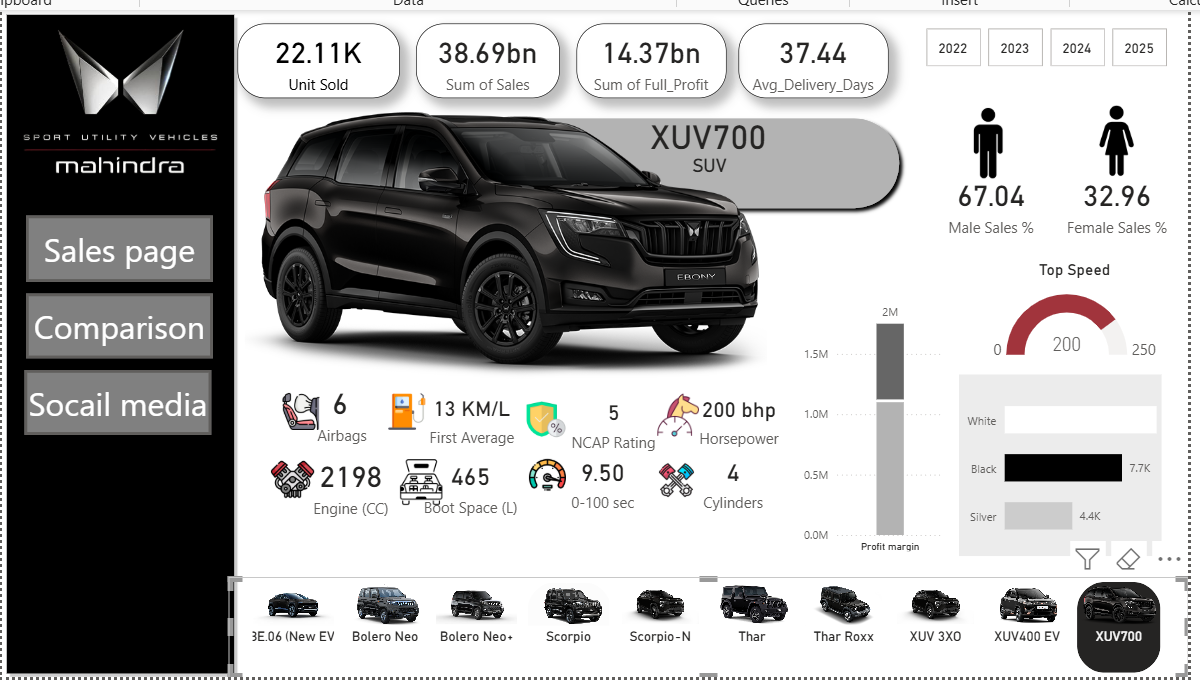

This screenshot's page, from the dashboard's own definition file:
{"tool":"powerbi","page":{"name":" Cars Specification","canvas":[1280,720],"ordinal":1},"visuals":[{"type":"shape","box":[0,0,255.7,721.4],"z":0},{"type":"shape","box":[484.2,108.8,493,114],"z":1000},{"type":"advancedSlicerVisual","fields":{"Values":["Mahindra_Product with img.Car_Model"]},"box":[245,611.7,1035,108.3],"z":2000},{"type":"card","fields":{"Values":["Min(Mahindra_Product with img.Car_Model)"]},"box":[620.2,100.4,283.4,66.4],"z":3000},{"type":"card","fields":{"Values":["Min(Mahindra_Product with img.Body Type)"]},"box":[667.1,139.3,192.7,55.1],"z":4000},{"type":"advancedSlicerVisual","fields":{"Values":["Mahindra_Product with img.Image URL"]},"box":[256,76,576,332],"z":5000},{"type":"card","fields":{"Values":["Sum(Sales.Full_sales)"]},"box":[446.9,14.6,155.4,81],"z":6000},{"type":"card","fields":{"Values":["Sum(Sales.Full_Profit)"]},"box":[620.2,14.6,161.9,81],"z":7000},{"type":"advancedSlicerVisual","fields":{"Values":["Sales.Year"]},"box":[993.3,15,271.7,51.7],"z":8000},{"type":"barChart","fields":{"Category":["Sales.Car_Color"],"Y":["CountNonNull(Sales.Booking_ID)"]},"box":[1033.1,393.5,218.6,195.9],"z":9000},{"type":"card","fields":{"Values":["Sales.Avg_Delivery_Time"]},"box":[795,14.6,161.9,81],"z":10000},{"type":"card","fields":{"Values":["Sales.SelectedCar_Sales"]},"box":[254.4,14,175.4,80.7],"z":11000},{"type":"image","box":[0,0,254,194.3],"z":12000},{"type":"actionButton","box":[26.7,221.7,201.7,71.7],"z":13000},{"type":"columnChart","title":"Showing profit and Manufacturing margin","fields":{"Category":["Mahindra_Product with img.Car_Model"],"Y":["Sum(Mahindra_Product with img.Manufacturing Cost )","Sum(Mahindra_Product with img.Profit )"]},"box":[859.8,299.6,160.3,289.8],"z":14000},{"type":"gauge","title":"Top Speed","fields":{"Y":["Sum(Mahindra_Product with img.Top_Speed (KM/H))"]},"box":[1065,270,185,118.3],"z":15000},{"type":"actionButton","box":[26.7,306.7,201.7,70],"z":16000},{"type":"actionButton","box":[25,388.3,201.7,70],"z":17000},{"type":"card","fields":{"Values":["Sales.MaleSalesPercentage"]},"box":[1129.1,168.2,150,80],"z":18000},{"type":"card","fields":{"Values":["Sales.MaleSalesPercentage"]},"box":[992.7,168.2,150,80],"z":19000},{"type":"image","box":[1145.5,87.3,117.3,107.3],"z":20000},{"type":"image","box":[1003.6,100,121.8,86.4],"z":21000},{"type":"image","box":[280,408.3,85,50],"z":22000},{"type":"card","fields":{"Values":["Sum(Mahindra_Product with img.Airbags)"]},"box":[305,375,120,115],"z":23000},{"type":"image","box":[410,408.3,55,50],"z":24000},{"type":"card","fields":{"Values":["Min(Mahindra_Product with img.Average)"]},"box":[446.7,381.7,120,115],"z":25000},{"type":"image","box":[558.3,403.3,56.7,76.7],"z":26000},{"type":"card","fields":{"Values":["Sum(Mahindra_Product with img.NCAP)"]},"box":[601.7,408.3,115,73.3],"z":27000},{"type":"image","box":[695,400,70,75],"z":28000},{"type":"card","fields":{"Values":["Min(Mahindra_Product with img.Horsepower)"]},"box":[735.5,394.5,120,91.8],"z":29000},{"type":"image","box":[284.5,475.5,57.3,60.9],"z":30000},{"type":"card","fields":{"Values":["Sum(Mahindra_Product with img.Engine (CC))"]},"box":[321.8,465.5,108.2,94.5],"z":31000},{"type":"image","box":[405,475.7,95,67.1],"z":32000},{"type":"card","fields":{"Values":["Sum(Mahindra_Product with img.Boot Space (L))"]},"box":[446.4,465.7,117.1,94.3],"z":33000},{"type":"image","box":[564.3,475,50,54.3],"z":34000},{"type":"card","fields":{"Values":["Sum(Mahindra_Product with img.0-100 Accel (Sec))"]},"box":[589.3,462.1,117.1,94.3],"z":35000},{"type":"image","box":[700.9,480,53.6,57.3],"z":36000},{"type":"card","fields":{"Values":["Sum(Mahindra_Product with img.Cylinders)"]},"box":[730.9,461.8,117.3,94.5],"z":37000}]}

Visuals, with their boxes on the page's 1280x720 design canvas (x1, y1, x2, y2). These are canvas units, not pixel positions in the 1200x683 screenshot, which may show the page scaled, cropped or inside an application window:
shape: [0,0,256,721]
shape: [484,109,977,223]
advancedSlicerVisual - Mahindra_Product with img.Car_Model: [245,612,1280,720]
card - Min(Mahindra_Product with img.Car_Model): [620,100,904,167]
card - Min(Mahindra_Product with img.Body Type): [667,139,860,194]
advancedSlicerVisual - Mahindra_Product with img.Image URL: [256,76,832,408]
card - Sum(Sales.Full_sales): [447,15,602,96]
card - Sum(Sales.Full_Profit): [620,15,782,96]
advancedSlicerVisual - Sales.Year: [993,15,1265,67]
barChart - Sales.Car_Color x CountNonNull(Sales.Booking_ID): [1033,394,1252,589]
card - Sales.Avg_Delivery_Time: [795,15,957,96]
card - Sales.SelectedCar_Sales: [254,14,430,95]
image: [0,0,254,194]
actionButton: [27,222,228,293]
"Showing profit and Manufacturing margin" columnChart: [860,300,1020,589]
"Top Speed" gauge: [1065,270,1250,388]
actionButton: [27,307,228,377]
actionButton: [25,388,227,458]
card - Sales.MaleSalesPercentage: [1129,168,1279,248]
card - Sales.MaleSalesPercentage: [993,168,1143,248]
image: [1146,87,1263,195]
image: [1004,100,1125,186]
image: [280,408,365,458]
card - Sum(Mahindra_Product with img.Airbags): [305,375,425,490]
image: [410,408,465,458]
card - Min(Mahindra_Product with img.Average): [447,382,567,497]
image: [558,403,615,480]
card - Sum(Mahindra_Product with img.NCAP): [602,408,717,482]
image: [695,400,765,475]
card - Min(Mahindra_Product with img.Horsepower): [736,394,856,486]
image: [284,476,342,536]
card - Sum(Mahindra_Product with img.Engine (CC)): [322,466,430,560]
image: [405,476,500,543]
card - Sum(Mahindra_Product with img.Boot Space (L)): [446,466,564,560]
image: [564,475,614,529]
card - Sum(Mahindra_Product with img.0-100 Accel (Sec)): [589,462,706,556]
image: [701,480,754,537]
card - Sum(Mahindra_Product with img.Cylinders): [731,462,848,556]
